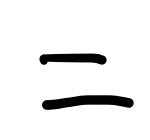eqv: (40, 54, 134, 111)
